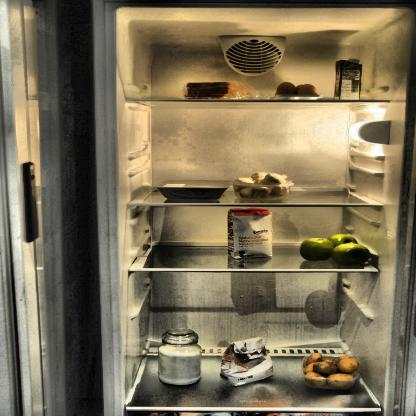apple: (296, 233, 372, 266)
eggs: (272, 82, 323, 102)
heavy_cream: (334, 57, 364, 101)
mushrooms: (233, 172, 291, 202)
potato: (302, 350, 361, 390)
